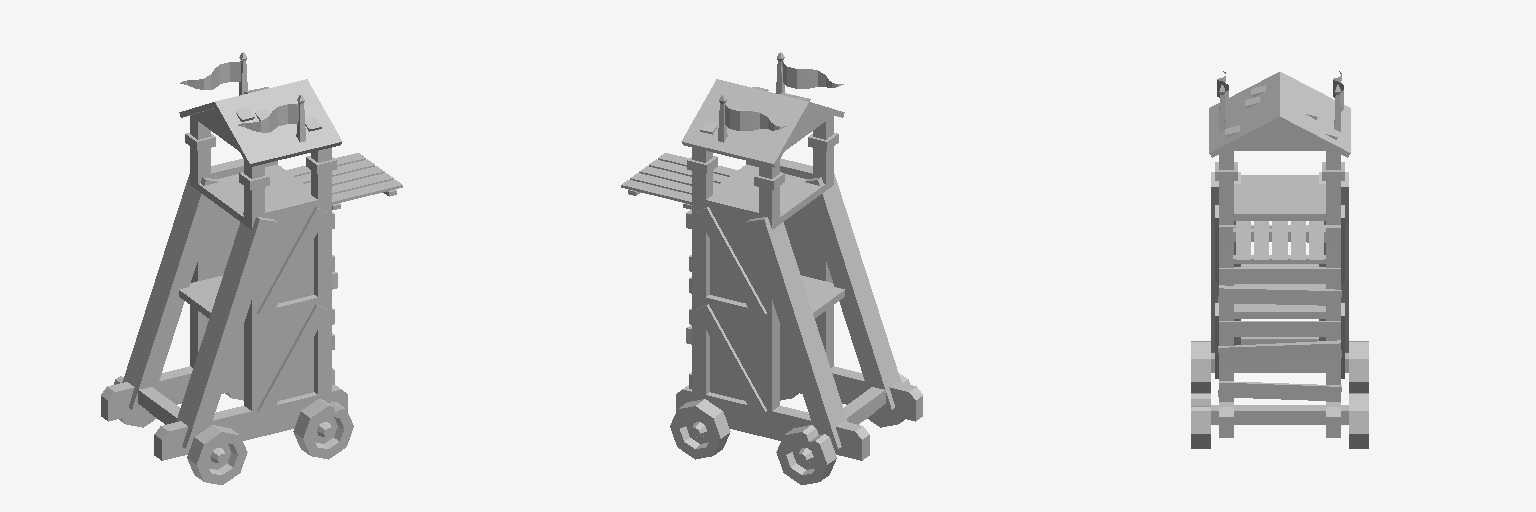
Rendered from siege-tower.obj.
The picture shows the model from 3 angles: view 1: azimuth 30°, elevation 25°; view 2: azimuth 150°, elevation 25°; view 3: azimuth 270°, elevation 25°; orthographic projection.
Parts seen in each view (by area): view 1: siege-tower; view 2: siege-tower; view 3: siege-tower.
Part boxes in pixels (x1,y1,x2,y2): siege-tower: (101, 52, 402, 484); siege-tower: (621, 52, 922, 484); siege-tower: (1191, 71, 1368, 448).
Bounding box in the file's own units: 1.97 × 2.68 × 1.21.